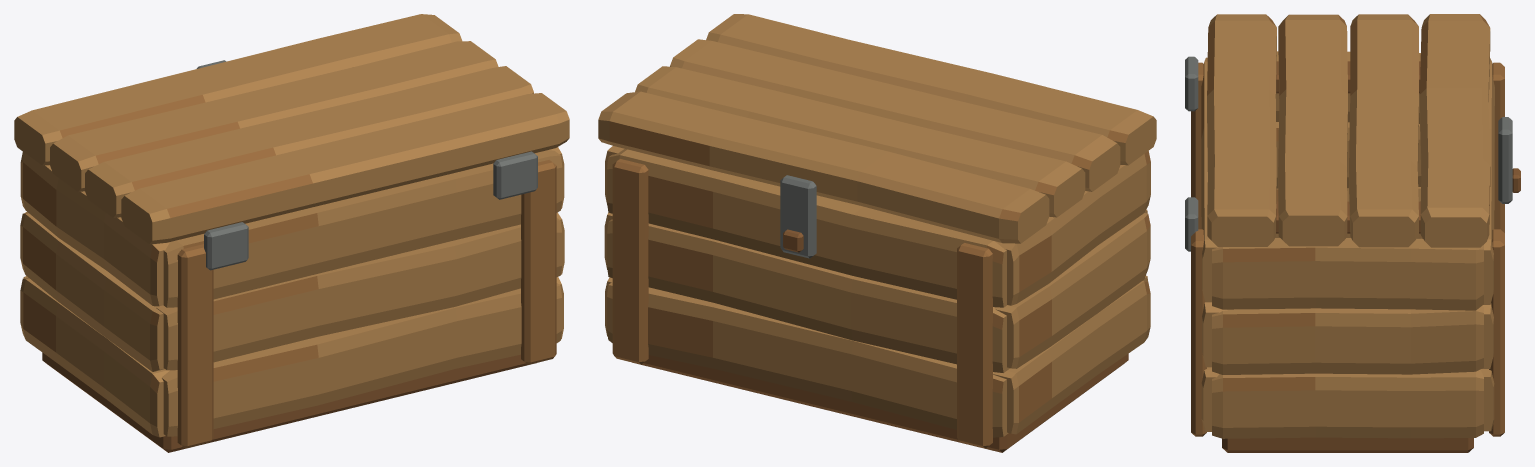
The model's file is storage_box_wood_01.glb.
3 views of the same model, side by side, from view 1: azimuth 30°, elevation 25°; view 2: azimuth 150°, elevation 25°; view 3: azimuth 270°, elevation 25° (orthographic).
Parts seen in each view (by area): view 1: storage_box_wood_01__lid_plank_0, storage_box_wood_01__wall_plank, storage_box_wood_01__wall_plank.002, storage_box_wood_01__wall_plank.004, storage_box_wood_01__lid_plank_3, storage_box_wood_01__lid_plank_1, storage_box_wood_01__lid_plank_2, storage_box_wood_01__end_plank.002, storage_box_wood_01__end_plank, storage_box_wood_01__end_plank.004, storage_box_wood_01__corner_strap, storage_box_wood_01__corner_strap.002 (+3 smaller); view 2: storage_box_wood_01__lid_plank_3, storage_box_wood_01__wall_plank.005, storage_box_wood_01__wall_plank.001, storage_box_wood_01__wall_plank.003, storage_box_wood_01__lid_plank_1, storage_box_wood_01__lid_plank_0, storage_box_wood_01__lid_plank_2, storage_box_wood_01__end_plank.002, storage_box_wood_01__end_plank, storage_box_wood_01__end_plank.004, storage_box_wood_01__corner_strap.003, storage_box_wood_01__corner_strap.001 (+2 smaller); view 3: storage_box_wood_01__end_plank.003, storage_box_wood_01__end_plank.001, storage_box_wood_01__end_plank.005, storage_box_wood_01__lid_plank_3, storage_box_wood_01__lid_plank_0, storage_box_wood_01__lid_plank_2, storage_box_wood_01__lid_plank_1, storage_box_wood_01__floor, storage_box_wood_01__corner_strap.003, storage_box_wood_01__corner_strap.002, storage_box_wood_01__wall_plank.004, storage_box_wood_01__wall_plank.005 (+10 smaller).
Boxes of the visible parts, x1,y1,x2,y2 form: storage_box_wood_01__lid_plank_0: (121,93,569,244); storage_box_wood_01__wall_plank: (161,283,561,436); storage_box_wood_01__wall_plank.002: (156,218,561,370); storage_box_wood_01__wall_plank.004: (163,150,562,307); storage_box_wood_01__lid_plank_3: (14,14,462,165); storage_box_wood_01__lid_plank_1: (85,66,533,217); storage_box_wood_01__lid_plank_2: (50,41,498,192); storage_box_wood_01__end_plank.002: (20,212,164,371); storage_box_wood_01__end_plank: (20,277,169,437); storage_box_wood_01__end_plank.004: (20,152,169,306); storage_box_wood_01__corner_strap: (177,244,213,448); storage_box_wood_01__corner_strap.002: (521,160,556,364); storage_box_wood_01__lid_plank_3: (598,91,1049,243); storage_box_wood_01__wall_plank.005: (607,149,1006,307); storage_box_wood_01__wall_plank.001: (607,282,1008,437); storage_box_wood_01__wall_plank.003: (607,219,1009,372); storage_box_wood_01__lid_plank_1: (670,39,1120,191); storage_box_wood_01__lid_plank_0: (706,14,1156,165); storage_box_wood_01__lid_plank_2: (635,66,1085,217); storage_box_wood_01__end_plank.002: (994,213,1150,368); storage_box_wood_01__end_plank: (993,280,1150,434); storage_box_wood_01__end_plank.004: (995,151,1150,305); storage_box_wood_01__corner_strap.003: (612,159,648,364); storage_box_wood_01__corner_strap.001: (957,243,992,448); storage_box_wood_01__end_plank.003: (1212,306,1483,374); storage_box_wood_01__end_plank.001: (1212,369,1483,438); storage_box_wood_01__end_plank.005: (1212,238,1483,310); storage_box_wood_01__lid_plank_3: (1419,14,1490,247); storage_box_wood_01__lid_plank_0: (1207,14,1276,246); storage_box_wood_01__lid_plank_2: (1349,14,1418,247); storage_box_wood_01__lid_plank_1: (1278,14,1347,246); storage_box_wood_01__floor: (1222,437,1473,452); storage_box_wood_01__corner_strap.003: (1489,229,1504,436); storage_box_wood_01__corner_strap.002: (1191,229,1206,436); storage_box_wood_01__wall_plank.004: (1201,57,1218,302); storage_box_wood_01__wall_plank.005: (1483,58,1494,304).
Size of the model in its own units: 0.838 by 0.4837 by 0.5865.
